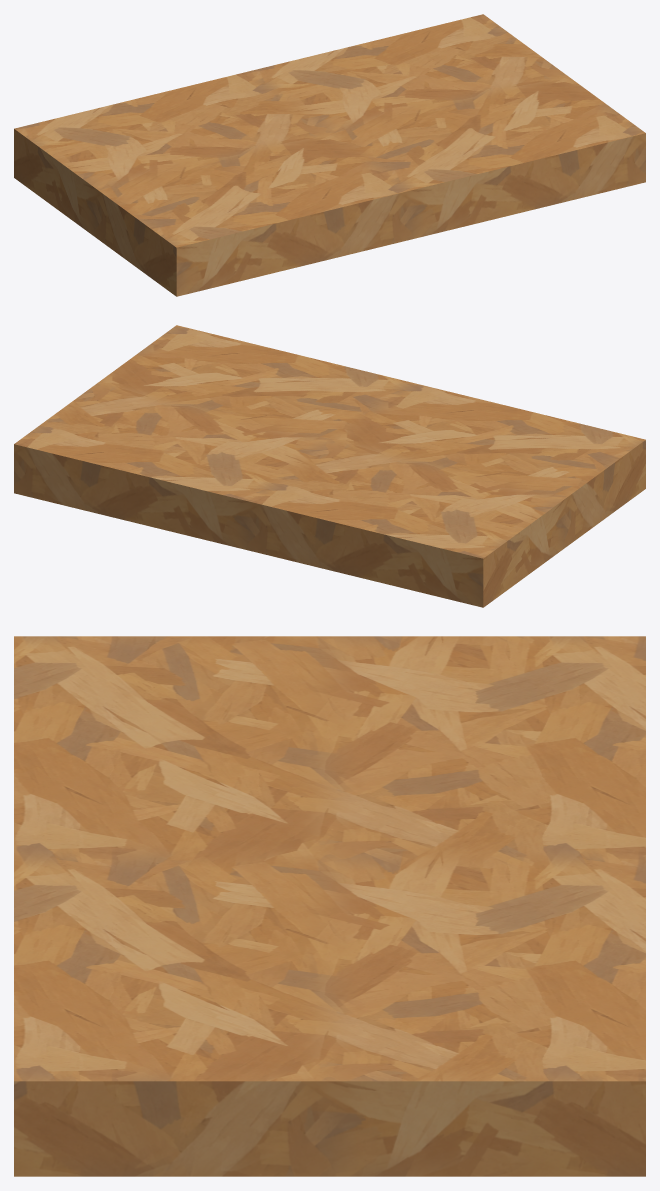
Rendered from PorchDeck.fbx.
The picture shows the model from 3 angles, top to bottom: view 1: azimuth 30°, elevation 25°; view 2: azimuth 150°, elevation 25°; view 3: azimuth 270°, elevation 25°; orthographic projection. The views are drawn at different scales.
Parts seen in each view (by area): view 1: PorchDeck; view 2: PorchDeck; view 3: PorchDeck.
Part boxes in pixels (x1=…): PorchDeck: x1=14, y1=14, x2=645, y2=296; PorchDeck: x1=14, y1=325, x2=645, y2=607; PorchDeck: x1=14, y1=636, x2=645, y2=1176.
Size of the model in its own units: 2 by 0.2 by 1.2.
